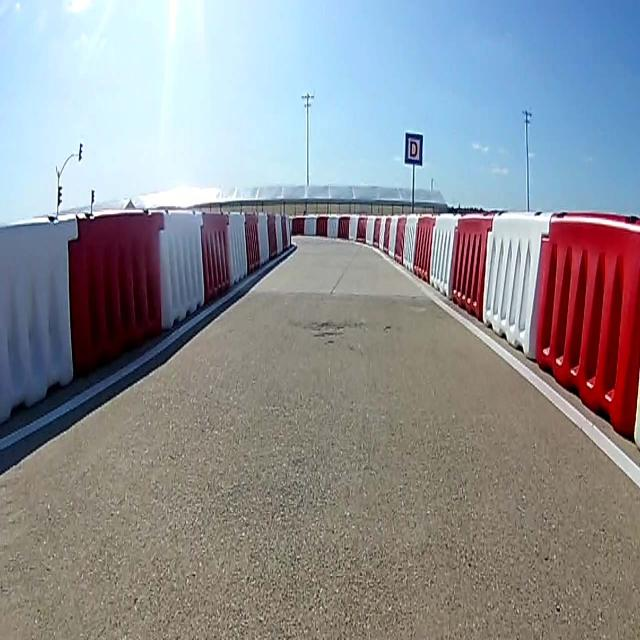durak: (406, 130, 421, 163)
